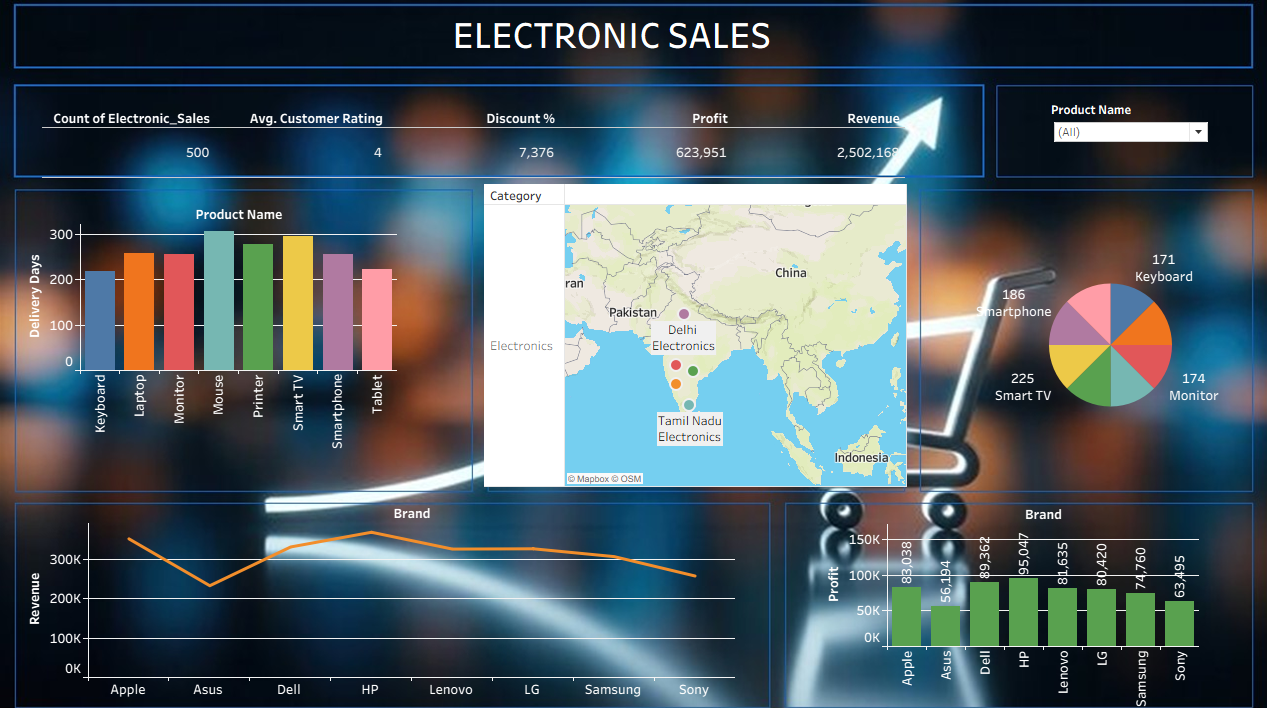

Layout of this report page (visuals, bound fields, positions):
{"tool":"tableau","page":{"name":"Dashboard 2","canvas":[1000,1000],"units":"permille","ordinal":0},"visuals":[{"type":"image","param":"C:/Users/Leenovo/OneDrive/Desktop/ELC 2.jpg","box":[6.1,14.1,987.9,971.8]},{"type":"text","box":[360.6,21.1,245.5,84.5]},{"type":"worksheet","title":"Sheet 14","mark":"Automatic","box":[51.5,135.6,653.8,123.2]},{"type":"filter","title":"Sheet 5","param":"[federated.1cf41oi0hw4jmn10t5ra90s5aavm].[none:Product_Name:nk]","box":[807.6,151.4,121.2,100.4]},{"type":"worksheet","title":"Sheet 1","mark":"Automatic","rows":["Category"],"box":[386.4,267.6,320.4,410.2]},{"type":"worksheet","title":"Sheet 5","mark":"Bar","rows":["Delivery_Days"],"cols":["Product_Name"],"box":[38.6,292.2,287.1,332.8]},{"type":"worksheet","title":"Sheet 3","mark":"Pie","box":[717.4,318.7,287.1,332.8]},{"type":"worksheet","title":"Sheet 2","mark":"Line","rows":["Revenue"],"cols":["Brand"],"box":[33.3,698.9,543.2,272.9]},{"type":"worksheet","title":"Sheet 4","mark":"Automatic","rows":["Profit"],"cols":["Brand"],"box":[638.6,700.7,289.4,301.1]}]}

Visuals, with their boxes on the dashboard's canvas, which has no fixed pixel size, in thousandths of its width and height (x1, y1, x2, y2). These are canvas units, not pixel positions in the 1267x708 screenshot, which may show the page scaled, cropped or inside an application window:
image: (6,14,994,986)
text: (361,21,606,106)
"Sheet 14" worksheet: (52,136,705,259)
"Sheet 5" filter: (808,151,929,252)
"Sheet 1" worksheet: (386,268,707,678)
"Sheet 5" worksheet (Bar marks): (39,292,326,625)
"Sheet 3" worksheet (Pie marks): (717,319,1004,652)
"Sheet 2" worksheet (Line marks): (33,699,576,972)
"Sheet 4" worksheet: (639,701,928,1002)
